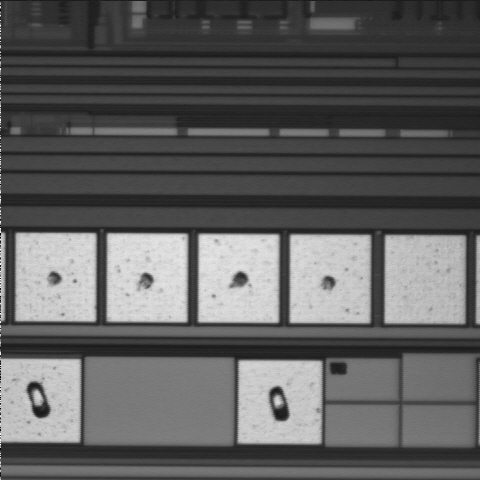pad: (199, 234, 279, 323), (16, 233, 96, 321), (107, 234, 187, 322), (290, 235, 370, 323), (385, 236, 464, 323), (238, 361, 321, 443)
